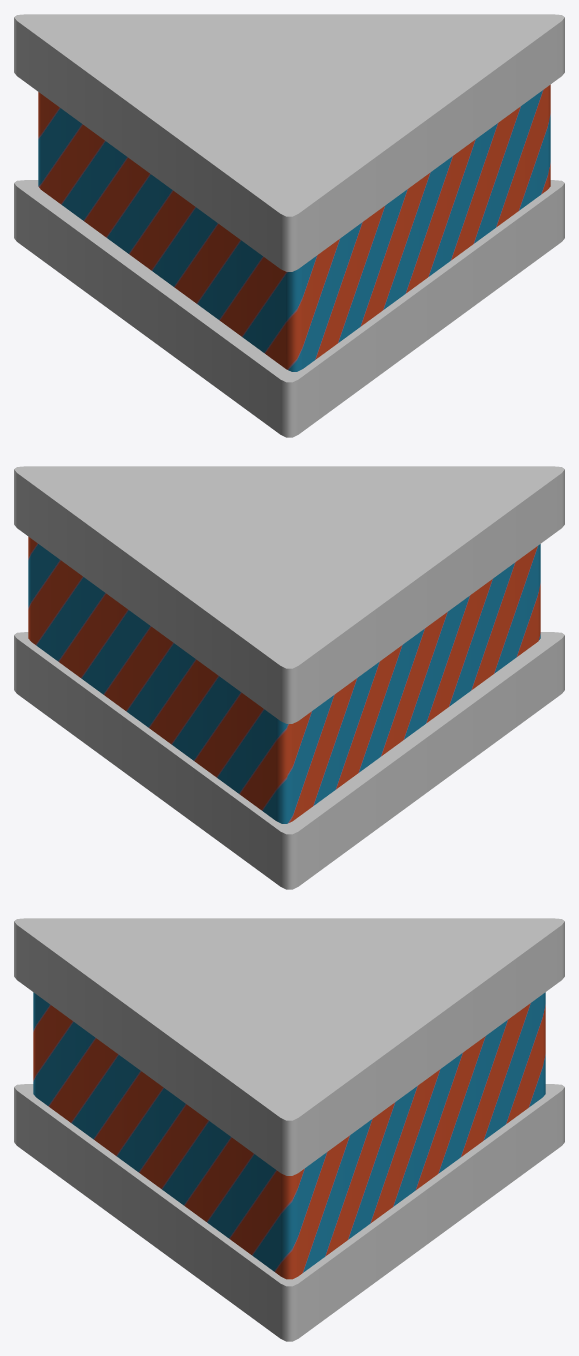
Rendered from RED_Triangle_move.FBX.
3 renders of one model, top to bottom at view 1: azimuth 30°, elevation 25°; view 2: azimuth 150°, elevation 25°; view 3: azimuth 270°, elevation 25°, orthographic.
Visible parts, largest first — view 1: RED_Triangle_move, RotateMesh; view 2: RED_Triangle_move, RotateMesh; view 3: RED_Triangle_move, RotateMesh.
Boxes of the visible parts, x1=… form: RED_Triangle_move: x1=14, y1=14, x2=564, y2=437; RotateMesh: x1=38, y1=84, x2=550, y2=371; RED_Triangle_move: x1=14, y1=466, x2=564, y2=889; RotateMesh: x1=28, y1=536, x2=540, y2=823; RED_Triangle_move: x1=14, y1=918, x2=564, y2=1341; RotateMesh: x1=33, y1=992, x2=545, y2=1279.
Bounding box in the file's own units: 53.04 × 27 × 61.02.
